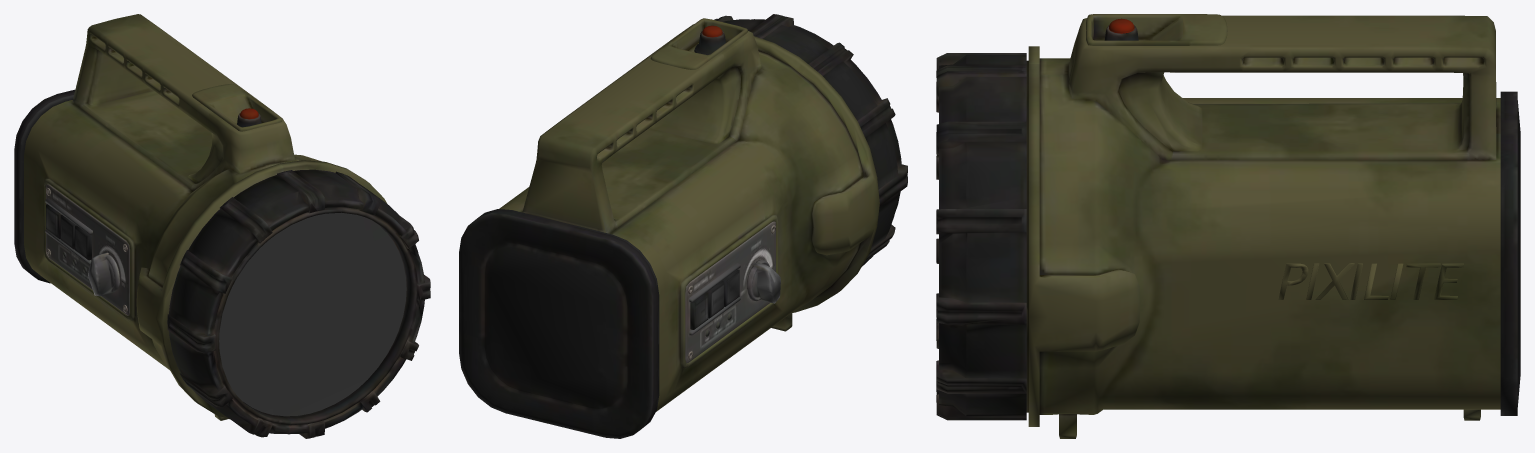
File: portable_searchlight.0ac5438b.glb
3 renders of one model, left to right at view 1: azimuth 30°, elevation 25°; view 2: azimuth 150°, elevation 25°; view 3: azimuth 270°, elevation 25°, orthographic. The views are drawn at different scales.
Parts seen in each view (by area): view 1: portable_searchlight; view 2: portable_searchlight; view 3: portable_searchlight.
Part boxes in pixels (x1,y1,x2,y2): portable_searchlight: [14, 14, 430, 438]; portable_searchlight: [459, 14, 907, 438]; portable_searchlight: [936, 14, 1520, 438].
Size of the model in its own units: 0.4697 by 0.5267 by 0.72.
2 materials, 2 textured.
